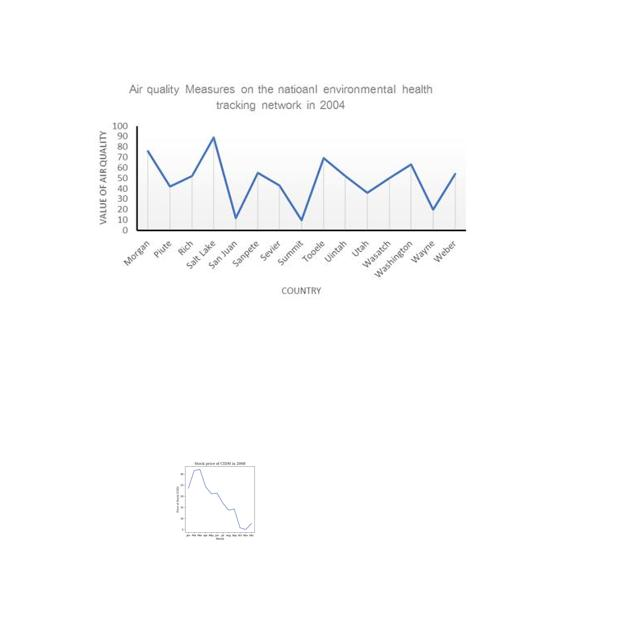Graph: (88, 76, 471, 302), (161, 456, 276, 542)
